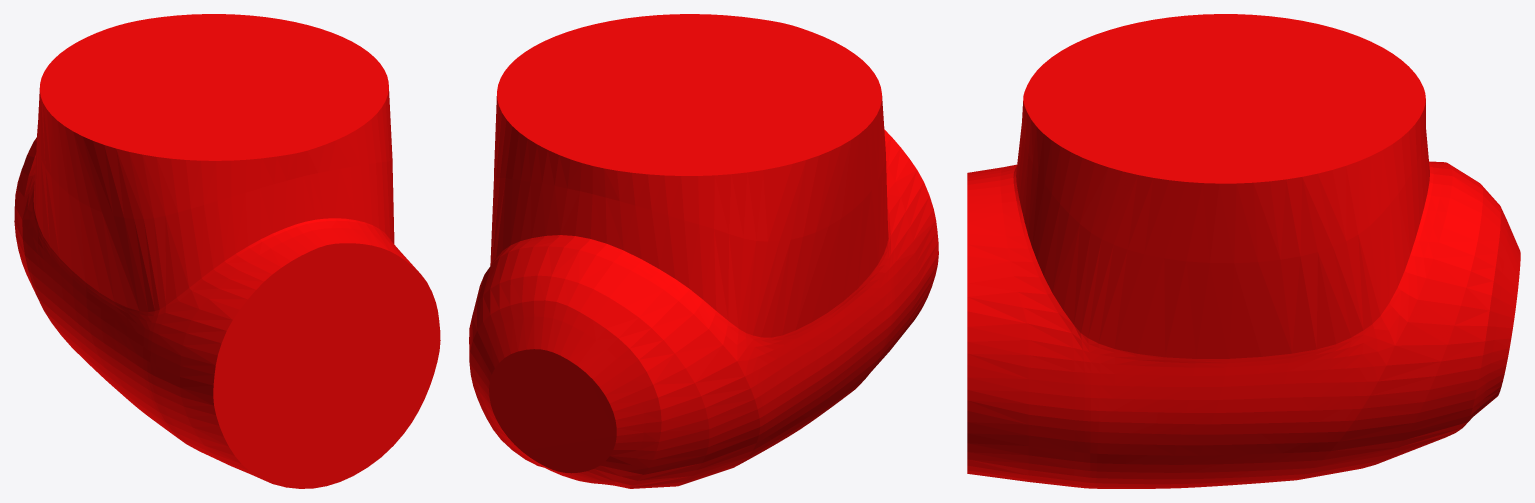
3 views of the same model, side by side, from view 1: azimuth 30°, elevation 25°; view 2: azimuth 150°, elevation 25°; view 3: azimuth 270°, elevation 25° (orthographic). The views are drawn at different scales.
Parts seen in each view (by area): view 1: MF1509_3_0; view 2: MF1509_3_0; view 3: MF1509_3_0.
Part boxes in pixels (<box>): MF1509_3_0: <box>14,14,440,488</box>; MF1509_3_0: <box>469,14,938,488</box>; MF1509_3_0: <box>967,14,1520,488</box>.
Bounding box in the file's own units: 131 × 181 × 135.
